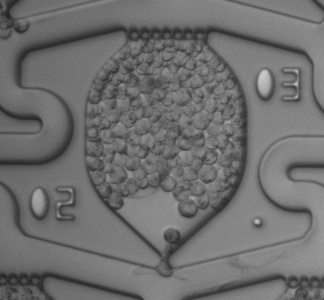AptNum: (248, 62, 310, 107)
Marker: (243, 208, 273, 235)
StNum: (22, 180, 84, 230)
Trap: (143, 258, 187, 300)
